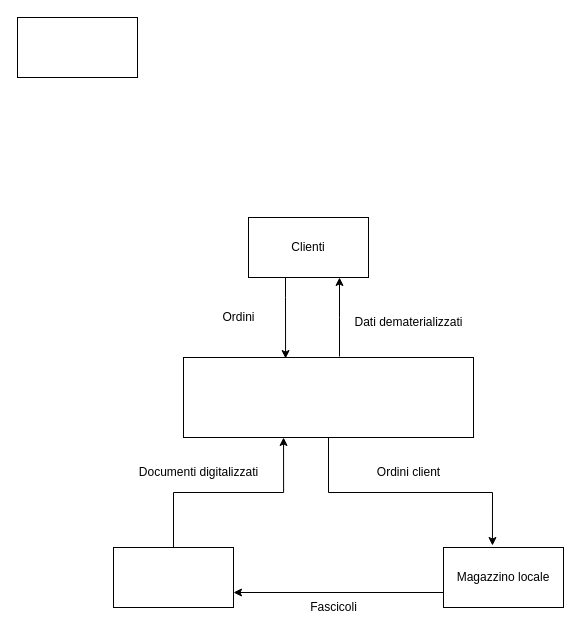
Some shapes in this 581 by 640 pixel diagram are drawn without their labels. The shapes that lost their labels are listed below. From the top down, each one's centre as x and y in pixels, then its label:
pixel 328 397: Amministrazione generale
pixel 173 577: Amministrazione locale
